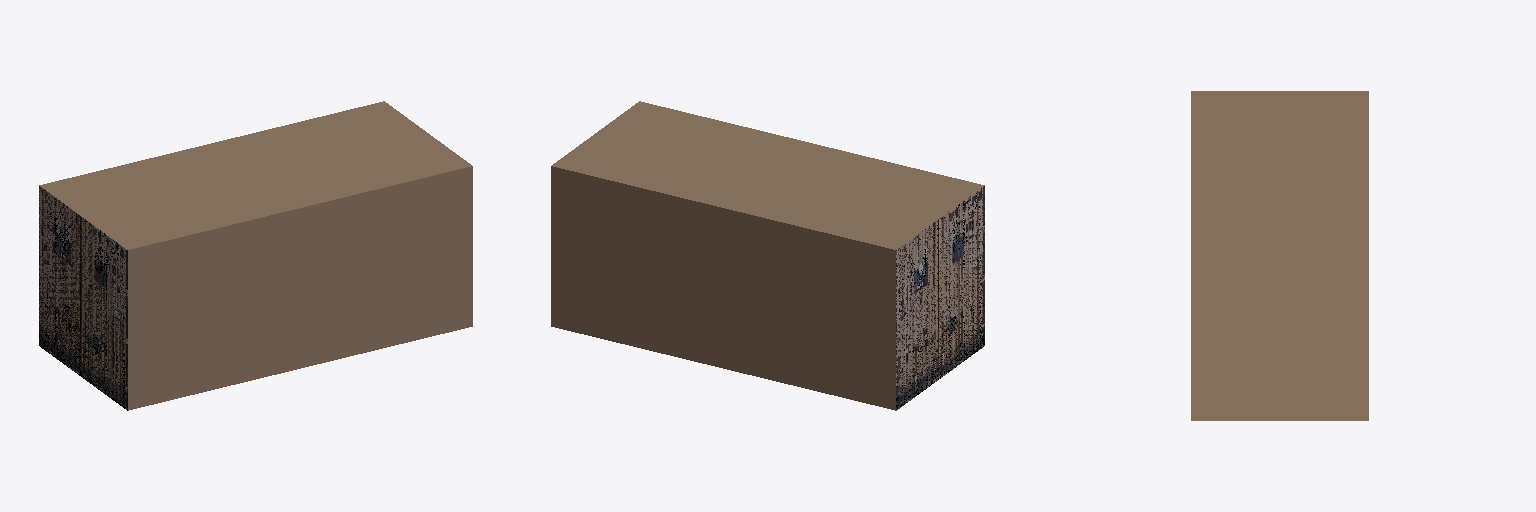
The picture shows the model from 3 angles: view 1: azimuth 30°, elevation 25°; view 2: azimuth 150°, elevation 25°; view 3: azimuth 270°, elevation 25°; orthographic projection.
Visible parts, largest first — view 1: Mesh1 Model; view 2: Mesh1 Model; view 3: Mesh1 Model.
Boxes of the visible parts, x1=… form: Mesh1 Model: x1=39, y1=101, x2=472, y2=410; Mesh1 Model: x1=551, y1=101, x2=984, y2=410; Mesh1 Model: x1=1191, y1=91, x2=1368, y2=420.
Bounding box in the file's own units: 89.69 × 39.83 × 39.83.
3 materials, 2 textured.